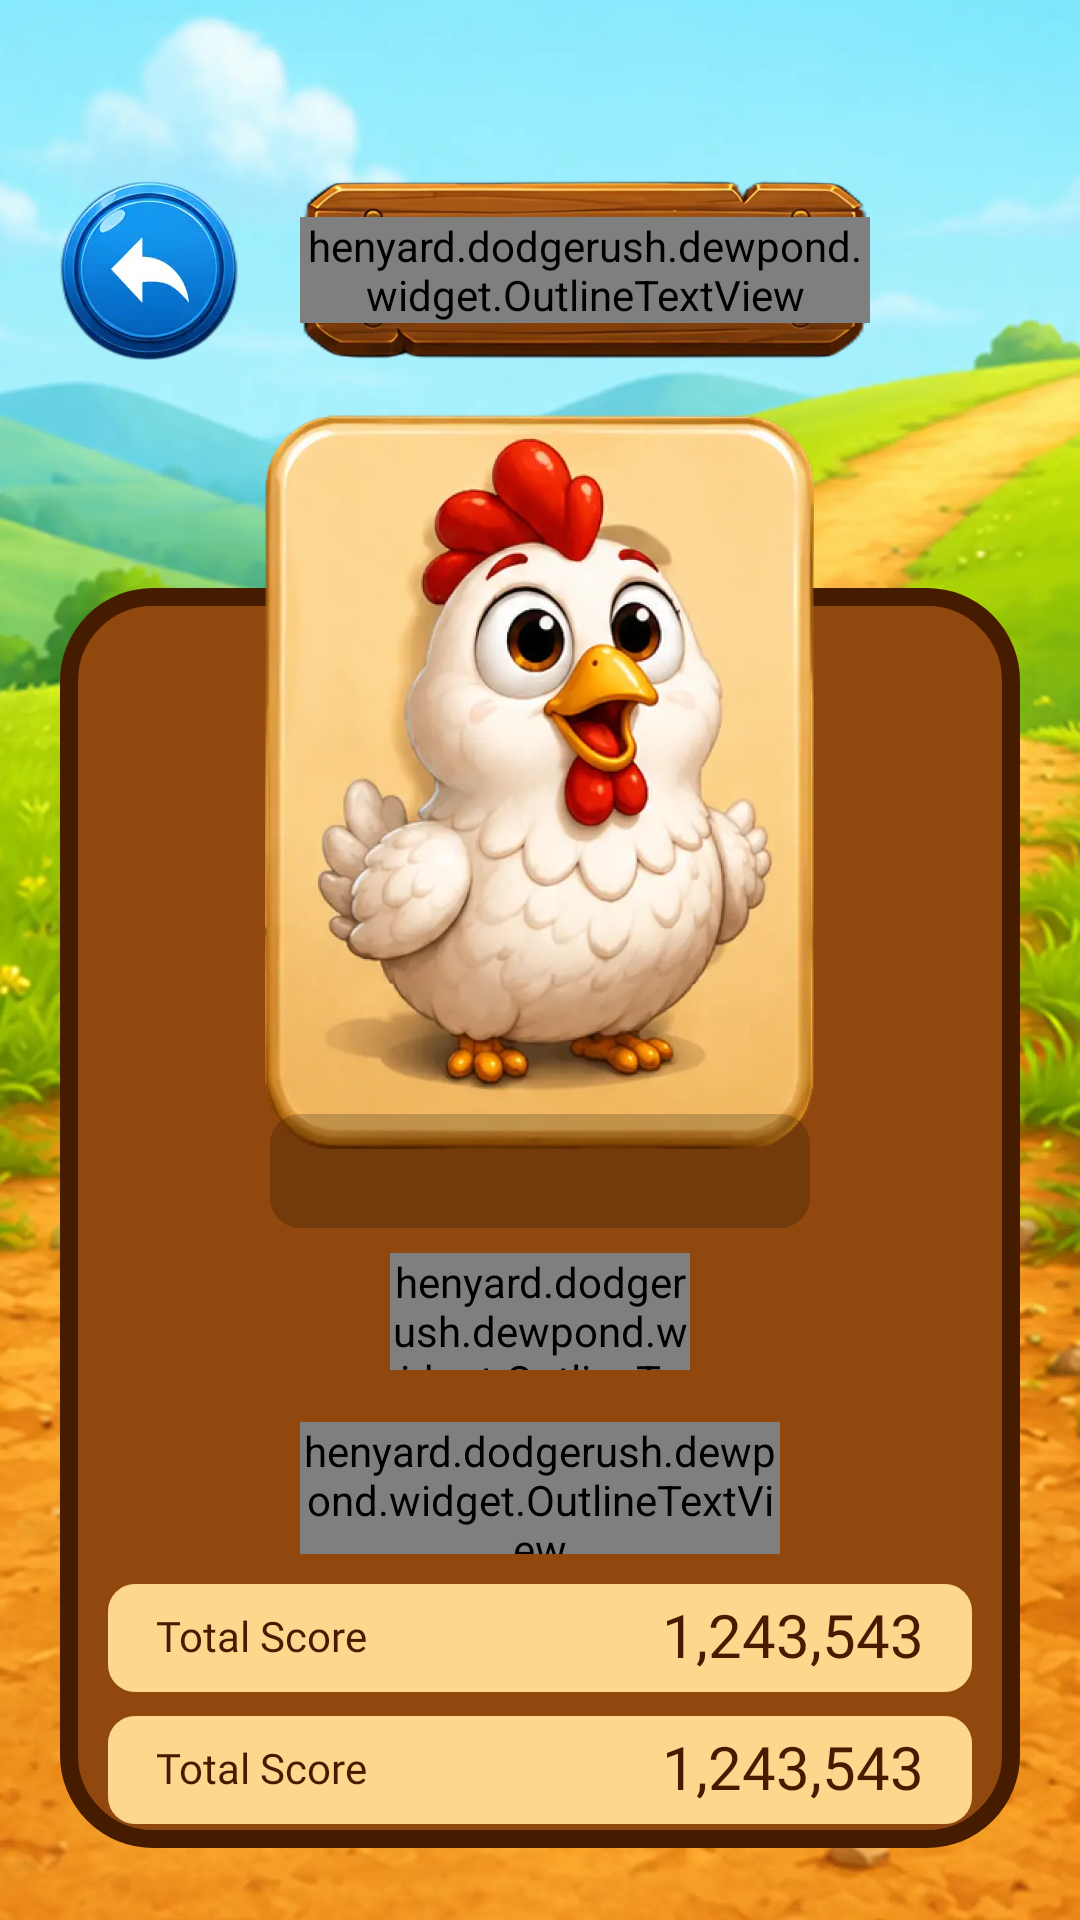

Icon bounding boxes for this 1080x1920 phone screenshot, format (x1,y1,x2,y2):
Back: (61,182,238,360)
